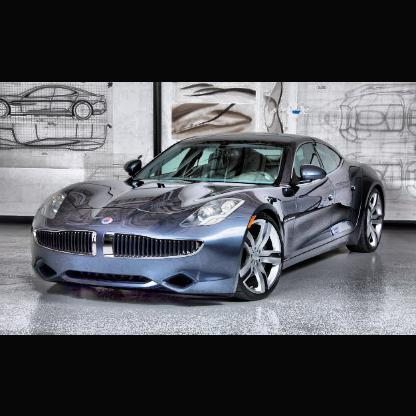Fisker Karma Sedan 2012: (31, 133, 387, 303)
